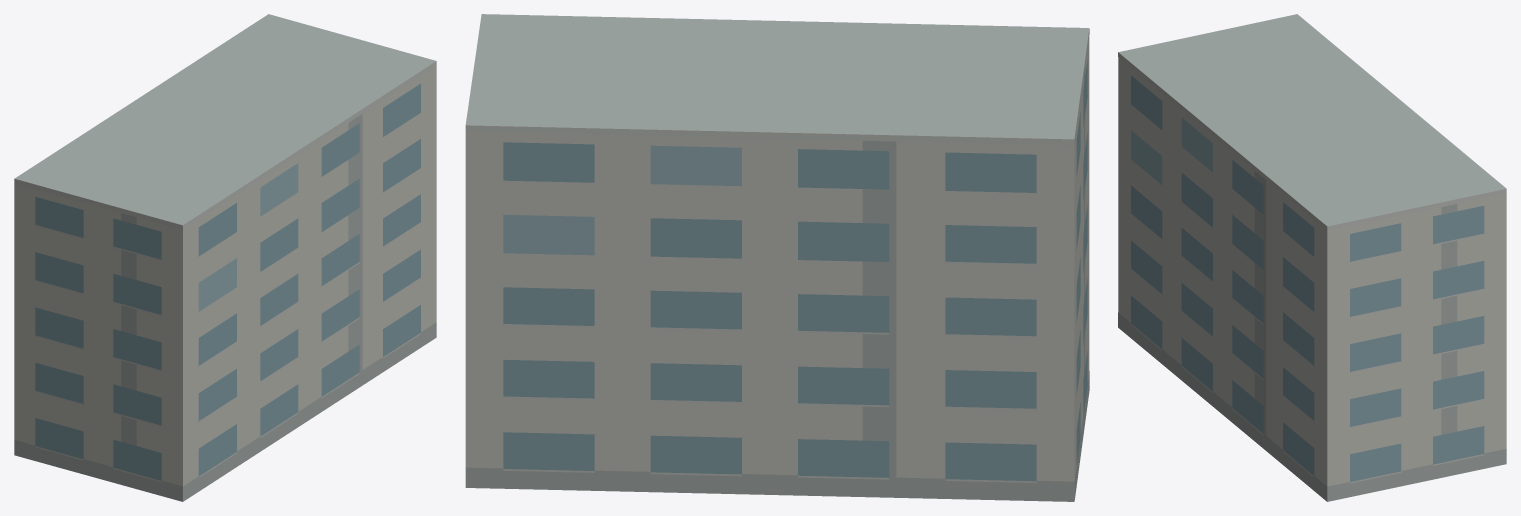
File: survey-upis-32816627.glb
3 renders of one model, left to right at view 1: azimuth 30°, elevation 25°; view 2: azimuth 150°, elevation 25°; view 3: azimuth 270°, elevation 25°, orthographic. The views are drawn at different scales.
Parts seen in each view (by area): view 1: survey-upis-32816627.tmp; view 2: survey-upis-32816627.tmp; view 3: survey-upis-32816627.tmp.
Part boxes in pixels (<box>): survey-upis-32816627.tmp: <box>14,14,436,501</box>; survey-upis-32816627.tmp: <box>465,14,1089,501</box>; survey-upis-32816627.tmp: <box>1118,14,1506,501</box>.
Size of the model in its own units: 23.51 by 14.2 by 18.17.
